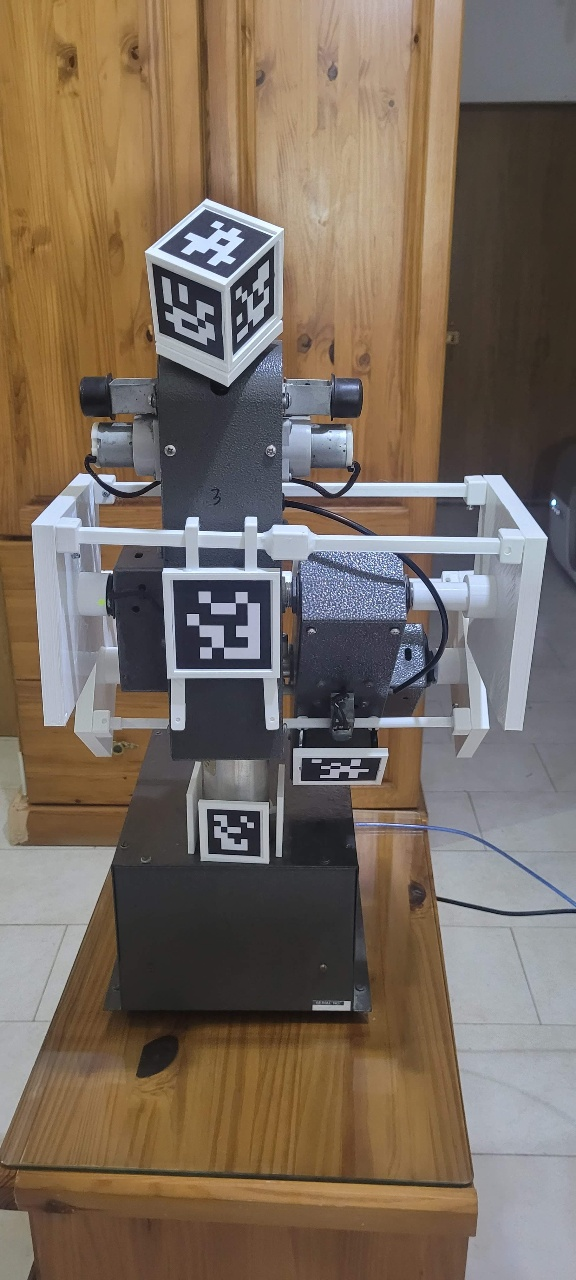Robot: (74, 441, 471, 1012)
